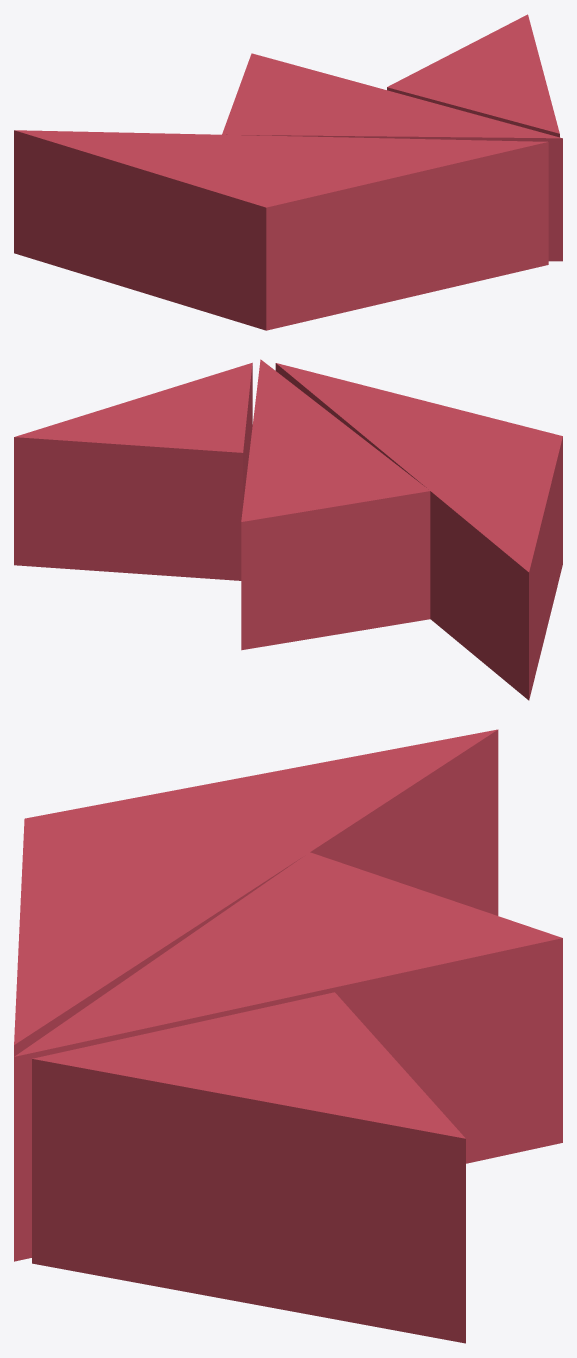
File: Streamlit.glb
3 views of the same model, one above another, from view 1: azimuth 30°, elevation 25°; view 2: azimuth 150°, elevation 25°; view 3: azimuth 270°, elevation 25° (orthographic). The views are drawn at different scales.
Visible parts, largest first — view 1: Mesh_Mesh_head_geo.001_lambert2SG.001; view 2: Mesh_Mesh_head_geo.001_lambert2SG.001; view 3: Mesh_Mesh_head_geo.001_lambert2SG.001.
Part boxes in pixels (x1,y1,x2,y2): Mesh_Mesh_head_geo.001_lambert2SG.001: [14, 14, 562, 330]; Mesh_Mesh_head_geo.001_lambert2SG.001: [14, 359, 562, 700]; Mesh_Mesh_head_geo.001_lambert2SG.001: [14, 729, 562, 1343].
Bounding box in the file's own units: 30 × 7 × 17.
